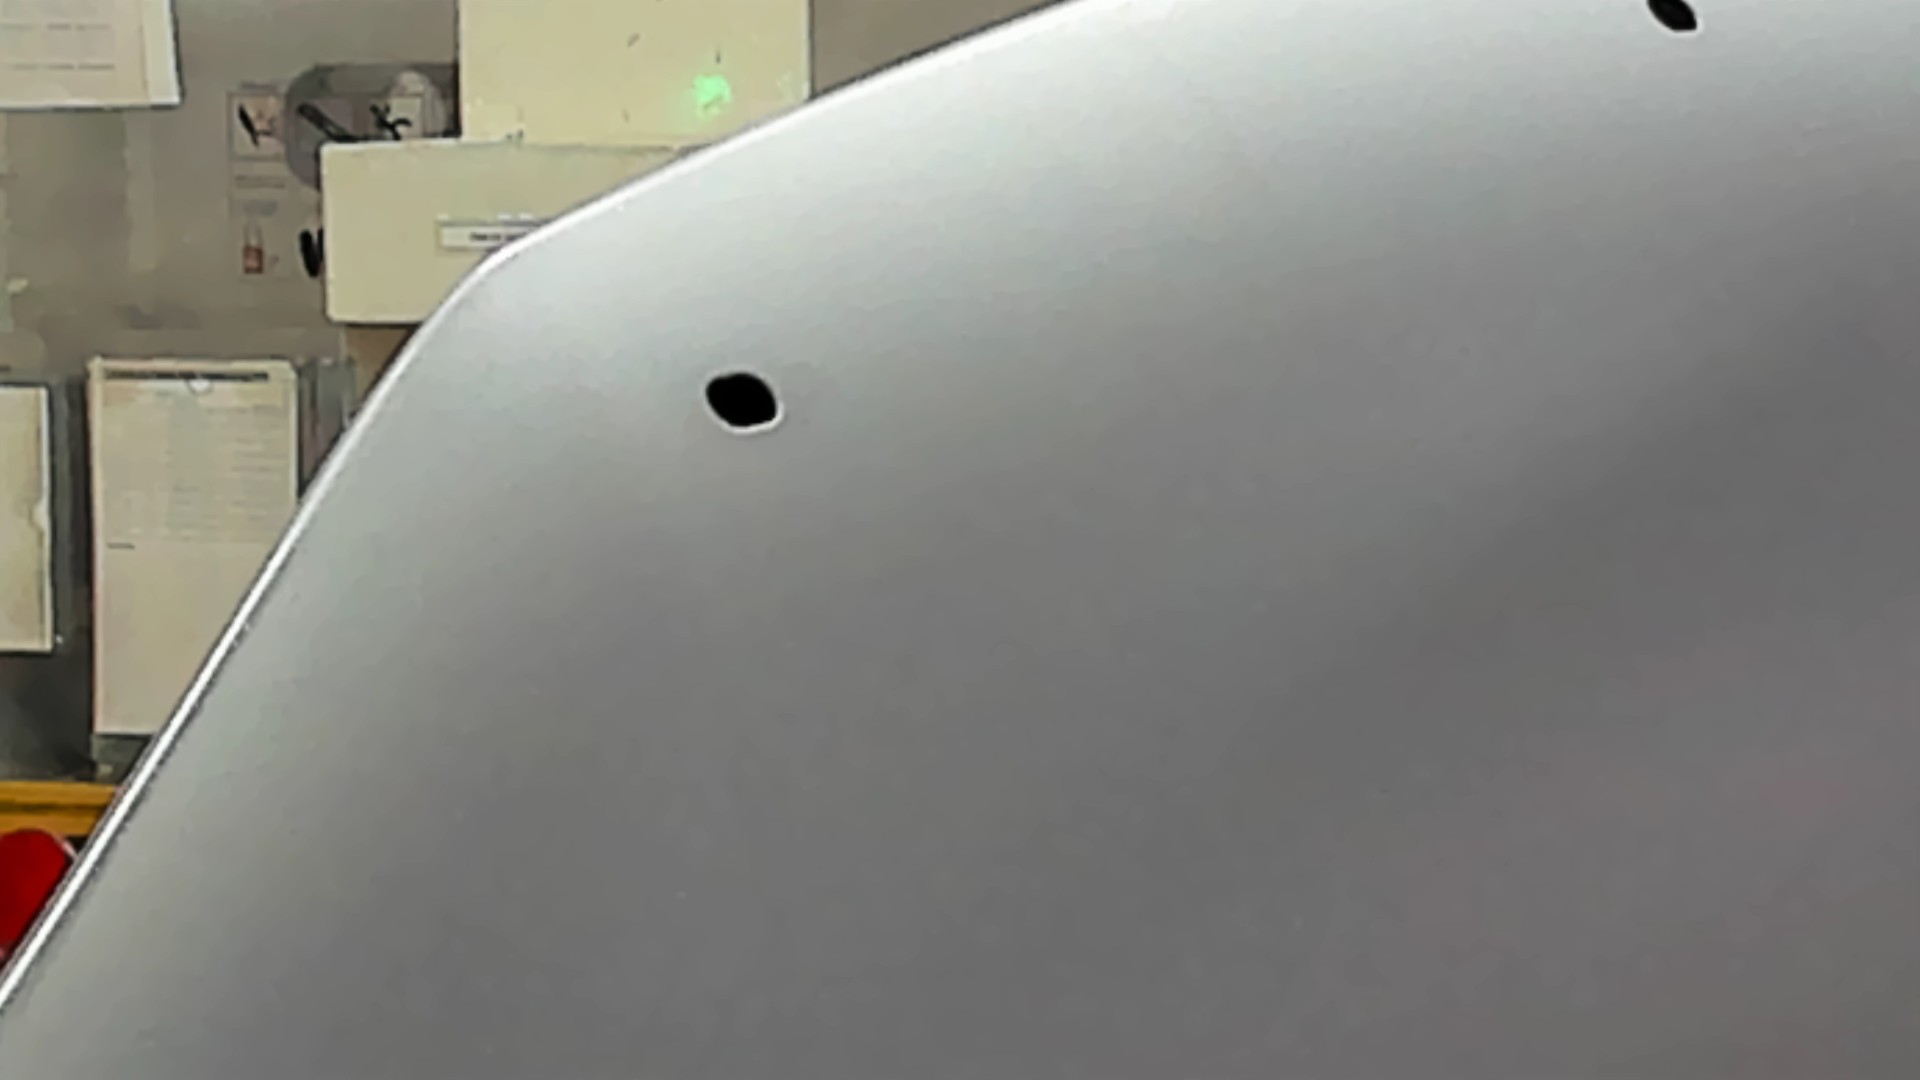chico: (698, 363, 798, 447), (1627, 1, 1713, 45)
